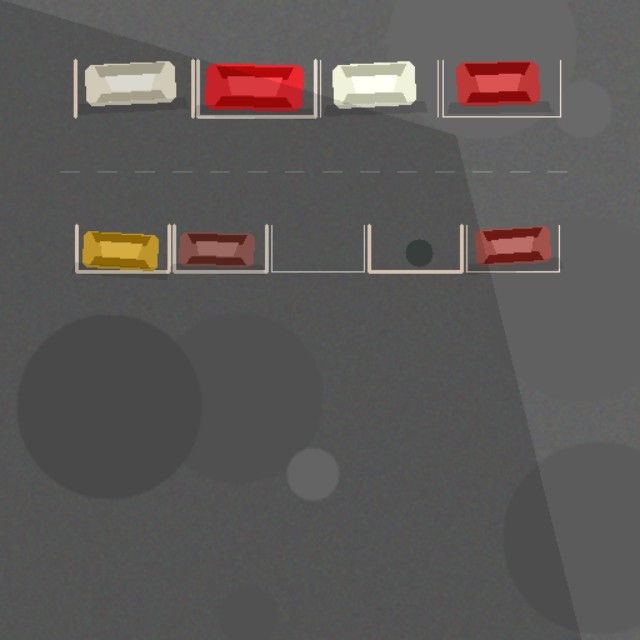space-empty: (271, 225, 364, 271), (369, 225, 461, 271)
space-occupied: (320, 60, 438, 116), (442, 60, 560, 116), (75, 60, 192, 116), (198, 60, 315, 116), (76, 225, 169, 271), (466, 225, 559, 271), (174, 225, 266, 271)
